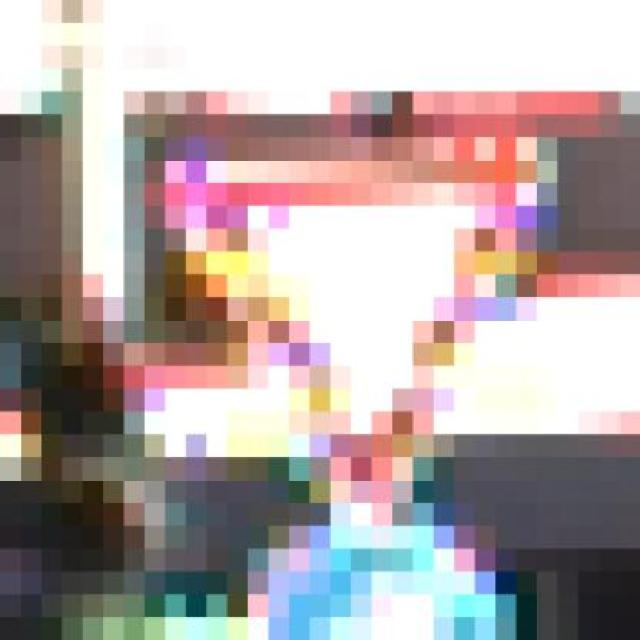Give Way: (136, 109, 550, 566)
